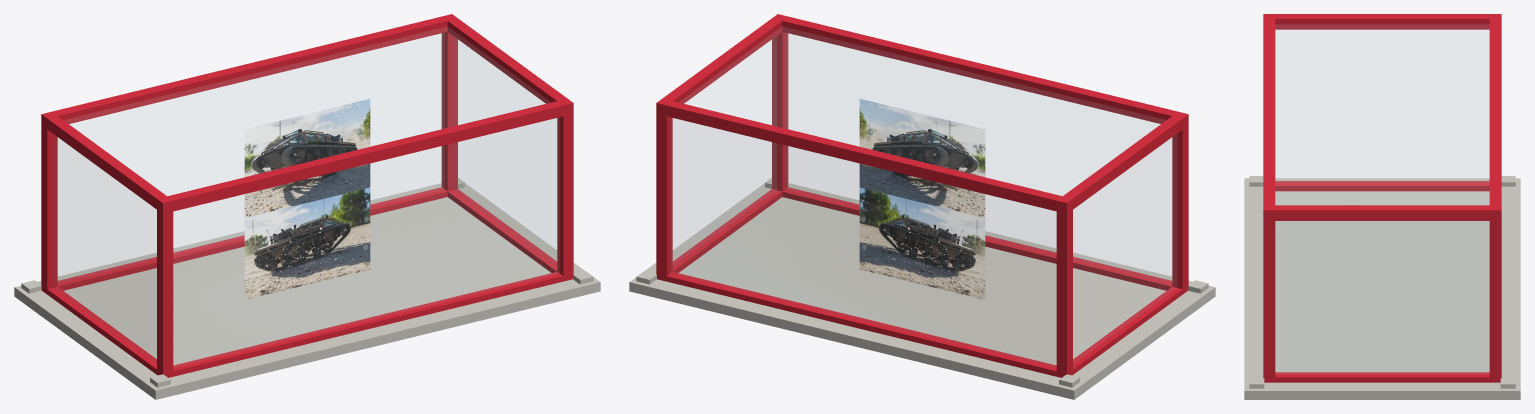
Rendered from ginjit-uuruu-yavagch.glb.
3 renders of one model, left to right at view 1: azimuth 30°, elevation 25°; view 2: azimuth 150°, elevation 25°; view 3: azimuth 270°, elevation 25°, orthographic. The views are drawn at different scales.
Size of the model in its own units: 0.3 by 0.1195 by 0.165.
Materials: 4 (1 with a texture image).
